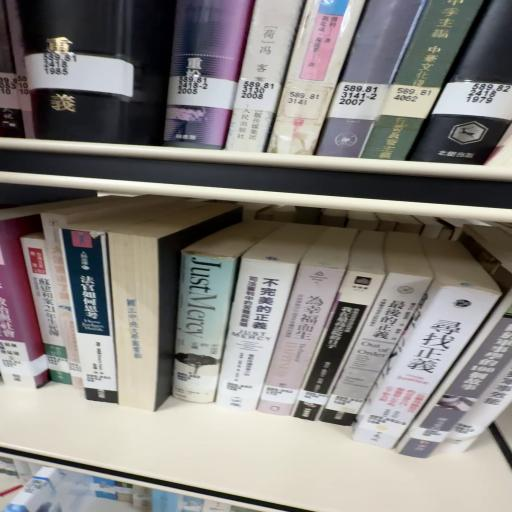backward: (108, 202, 243, 412)
